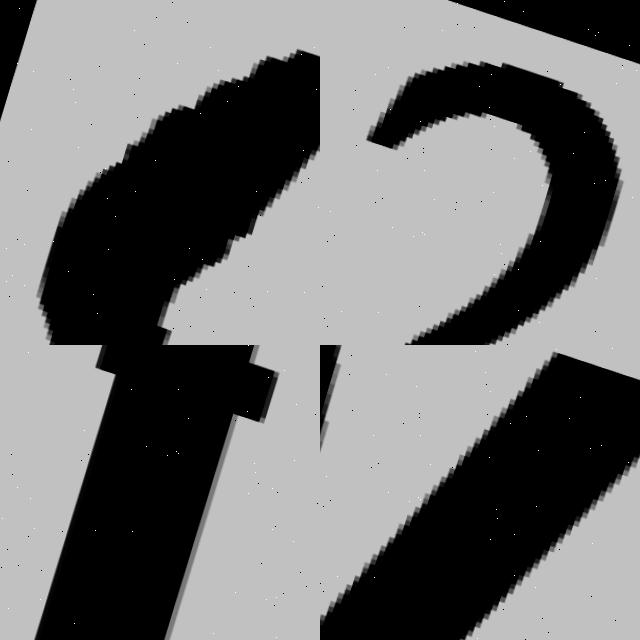2: (320, 0, 640, 345)
C: (38, 48, 320, 345)
T: (0, 345, 311, 640)
V: (320, 345, 640, 640)
